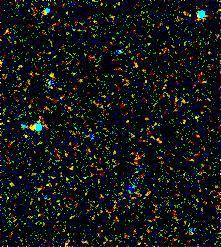star: (17, 112, 47, 142)
